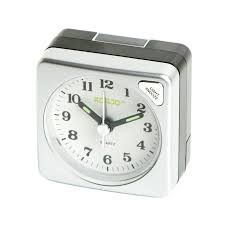alarm_clock: (37, 26, 196, 196)
